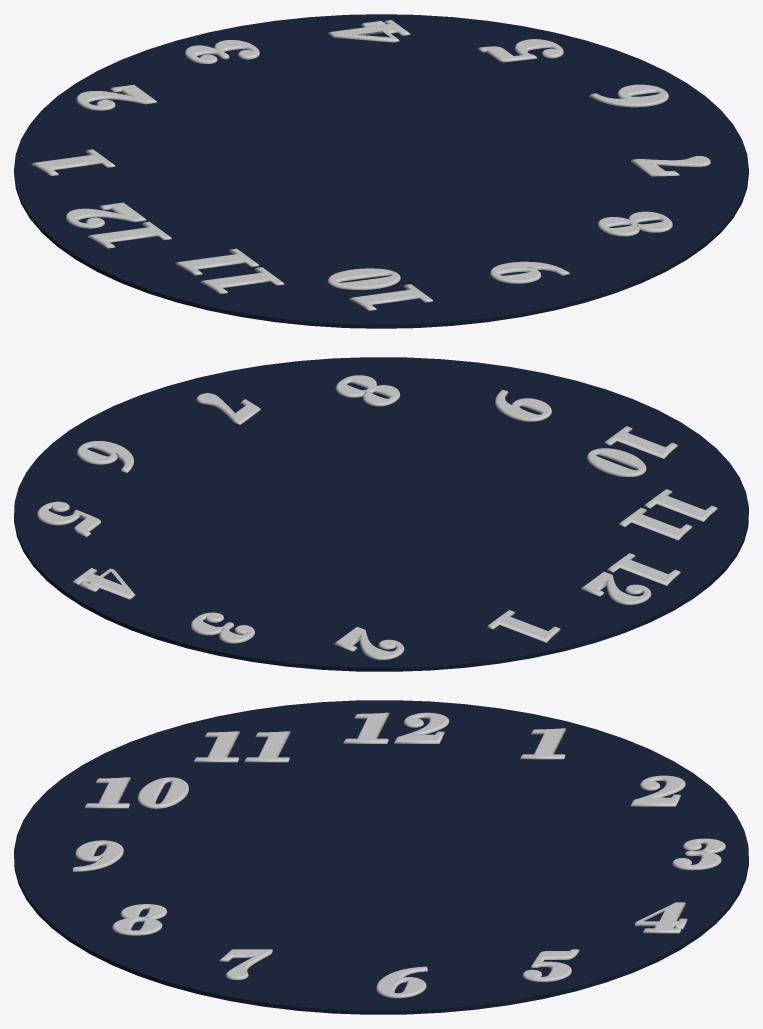
File: huta.obj
3 renders of one model, top to bottom at view 1: azimuth 30°, elevation 25°; view 2: azimuth 150°, elevation 25°; view 3: azimuth 270°, elevation 25°, orthographic.
Visible parts, largest first — view 1: 円柱.001, テキスト.011, テキスト, テキスト.012, テキスト.009, テキスト.003, テキスト.007, テキスト.004, テキスト.010, テキスト.006, テキスト.005, テキスト.002 (+1 smaller); view 2: 円柱.001, テキスト.011, テキスト, テキスト.012, テキスト.009, テキスト.003, テキスト.004, テキスト.006, テキスト.007, テキスト.010, テキスト.005, テキスト.002 (+1 smaller); view 3: 円柱.001, テキスト, テキスト.011, テキスト.012, テキスト.009, テキスト.003, テキスト.004, テキスト.006, テキスト.007, テキスト.010, テキスト.005, テキスト.002 (+1 smaller).
Boxes of the visible parts, x1,y1,x2,y2 form: 円柱.001: (14,14,748,328); テキスト.011: (328,268,433,310); テキスト: (65,202,171,248); テキスト.012: (175,248,284,293); テキスト.009: (598,211,672,236); テキスト.003: (76,84,156,110); テキスト.007: (589,84,668,107); テキスト.004: (185,40,259,63); テキスト.010: (490,261,569,283); テキスト.006: (478,39,563,62); テキスト.005: (328,20,410,42); テキスト.002: (31,149,115,176); 円柱.001: (14,357,748,671); テキスト.011: (587,426,677,476); テキスト: (581,553,680,604); テキスト.012: (619,489,717,540); テキスト.009: (335,375,400,406); テキスト.003: (334,626,404,659); テキスト.004: (191,612,254,643); テキスト.006: (37,501,100,536); テキスト.007: (77,441,134,472); テキスト.010: (495,390,551,421); テキスト.005: (72,568,135,599); テキスト.002: (487,610,560,642); 円柱.001: (14,700,748,1014); テキスト: (343,712,449,743); テキスト.011: (84,777,188,808); テキスト.012: (194,731,290,762); テキスト.009: (112,904,166,935); テキスト.003: (630,775,685,806); テキスト.004: (672,838,725,870); テキスト.006: (522,949,579,981); テキスト.007: (376,966,427,998); テキスト.010: (72,840,123,871); テキスト.005: (635,902,687,933); テキスト.002: (520,728,566,759).
Bounding box in the file's own units: 1.72 × 0.0167 × 1.72.
